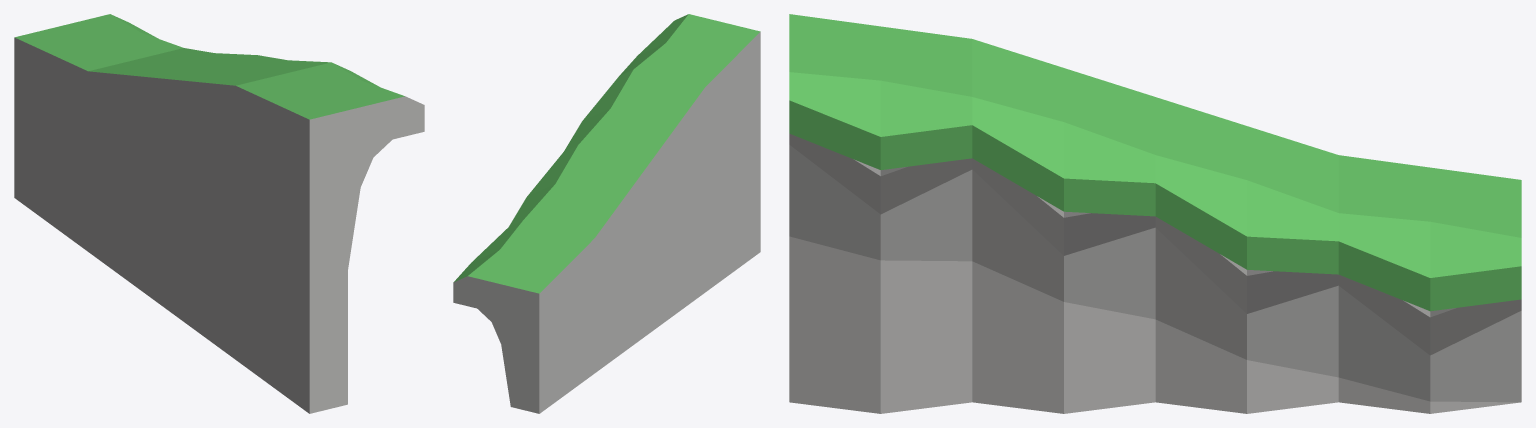
Rendered from Cliff_Top_Hill_Gentle.glb.
The picture shows the model from 3 angles, left to right: view 1: azimuth 30°, elevation 25°; view 2: azimuth 150°, elevation 25°; view 3: azimuth 270°, elevation 25°; orthographic projection. The views are drawn at different scales.
Visible parts, largest first — view 1: object1; view 2: object1; view 3: object1.
Part boxes in pixels (bbox=[...]): object1: bbox=[14, 14, 424, 413]; object1: bbox=[453, 14, 760, 413]; object1: bbox=[789, 14, 1521, 413].
Bounding box in the file's own units: 1 × 2.2 × 4.
